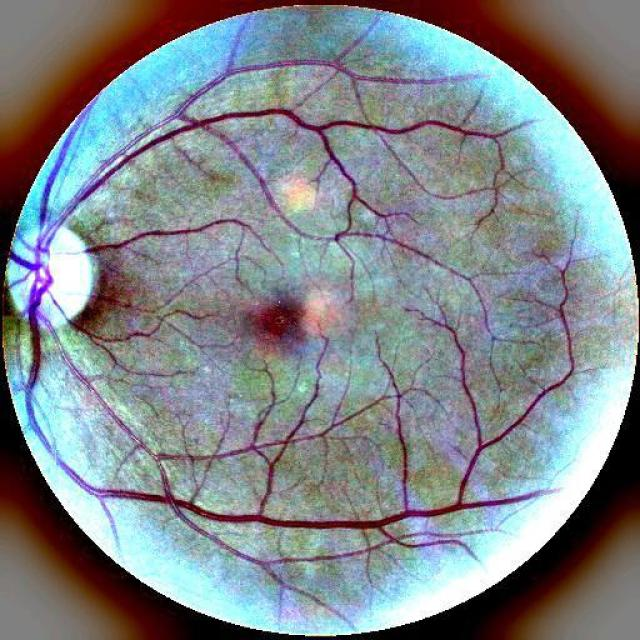Macula: (246, 296, 312, 352)
Nerves: (9, 11, 534, 538)
Optic Disk: (4, 222, 103, 326)
